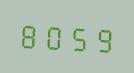eight: (18, 17, 41, 51)
five: (66, 20, 89, 54)
nine: (90, 21, 113, 55)
zero: (42, 18, 65, 52)
